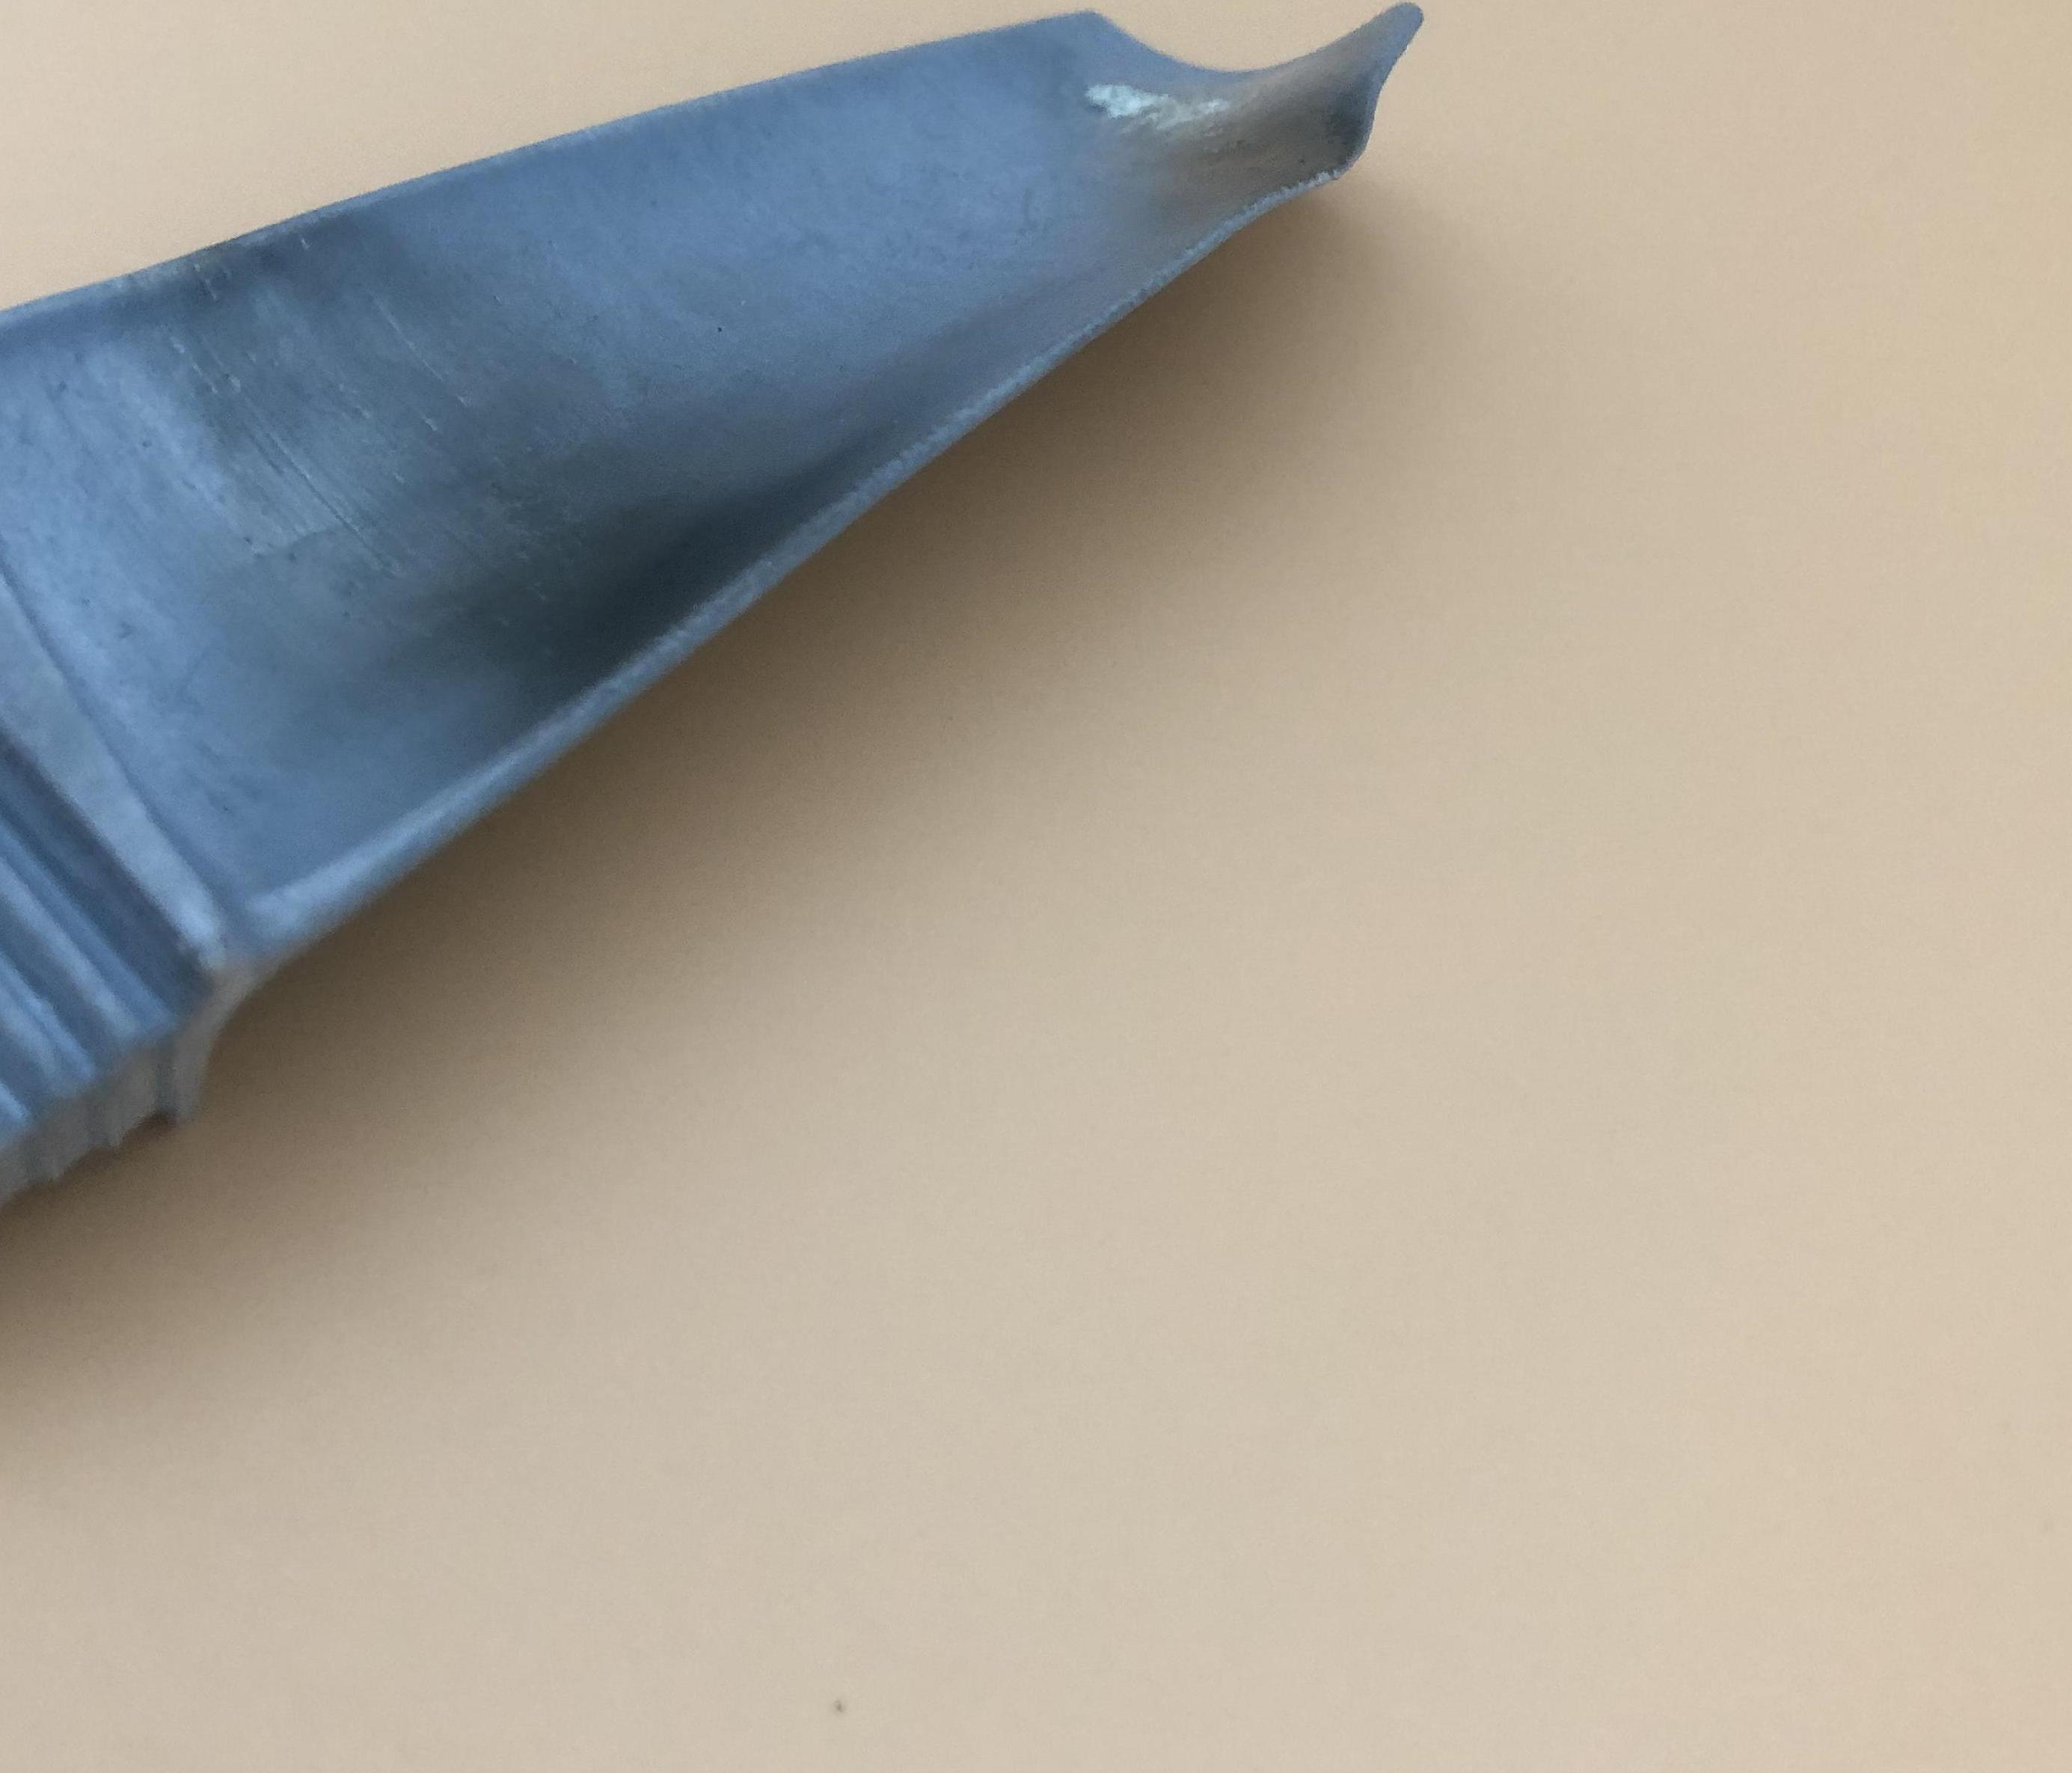ablation: (445, 445, 818, 640), (1161, 76, 1360, 215)
